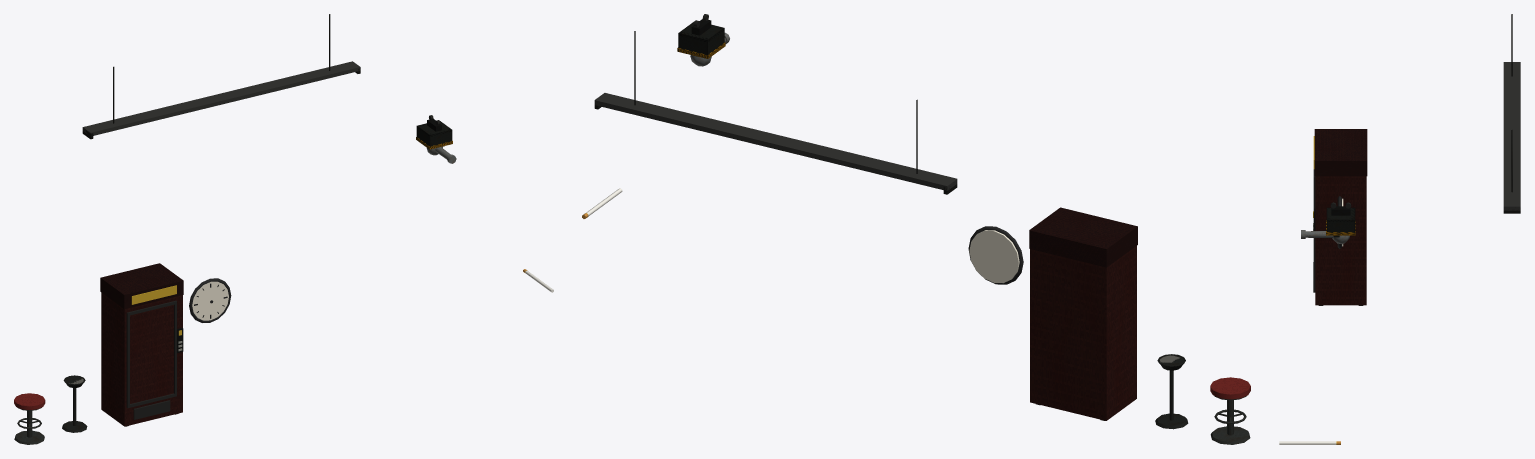
Rendered from smokebreak.glb.
3 renders of one model, left to right at view 1: azimuth 30°, elevation 25°; view 2: azimuth 150°, elevation 25°; view 3: azimuth 270°, elevation 25°, orthographic. The views are drawn at different scales.
Parts seen in each view (by area): view 1: vending, tube_fixture, wall_clock, stool, turret_body, ashtray; view 2: vending, tube_fixture, wall_clock, stool, turret_body, ashtray; view 3: vending, tube_fixture, turret_body, turret_head.
Part boxes in pixels (x1=…): vending: x1=100, y1=263, x2=183, y2=426; tube_fixture: x1=82, y1=14, x2=360, y2=139; wall_clock: x1=189, y1=278, x2=231, y2=322; stool: x1=14, y1=393, x2=45, y2=444; turret_body: x1=416, y1=115, x2=452, y2=149; ashtray: x1=62, y1=375, x2=87, y2=432; vending: x1=1029, y1=207, x2=1137, y2=420; tube_fixture: x1=594, y1=31, x2=957, y2=194; wall_clock: x1=968, y1=226, x2=1023, y2=284; stool: x1=1210, y1=377, x2=1250, y2=444; turret_body: x1=677, y1=14, x2=725, y2=58; ashtray: x1=1155, y1=354, x2=1188, y2=429; vending: x1=1313, y1=129, x2=1367, y2=305; tube_fixture: x1=1503, y1=14, x2=1520, y2=213; turret_body: x1=1326, y1=202, x2=1355, y2=235; turret_head: x1=1301, y1=230, x2=1349, y2=243.
Size of the model in its own units: 11.33 by 5.88 by 4.23.
20 materials, 10 textured.
